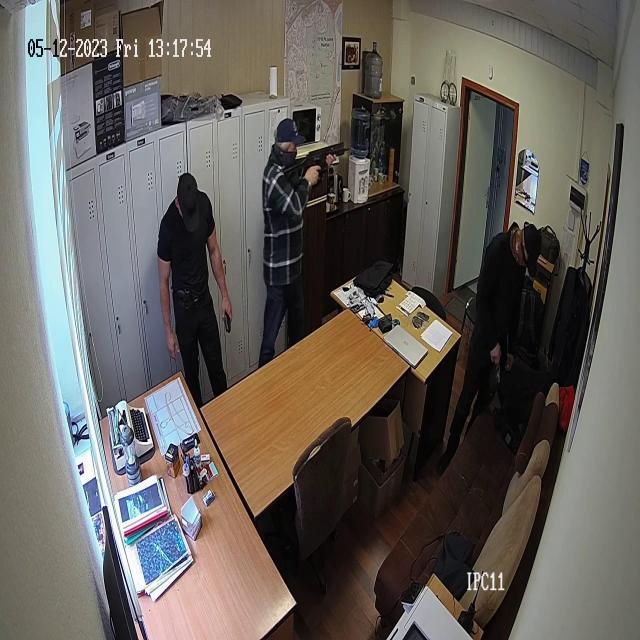pistol: (282, 141, 350, 183)
